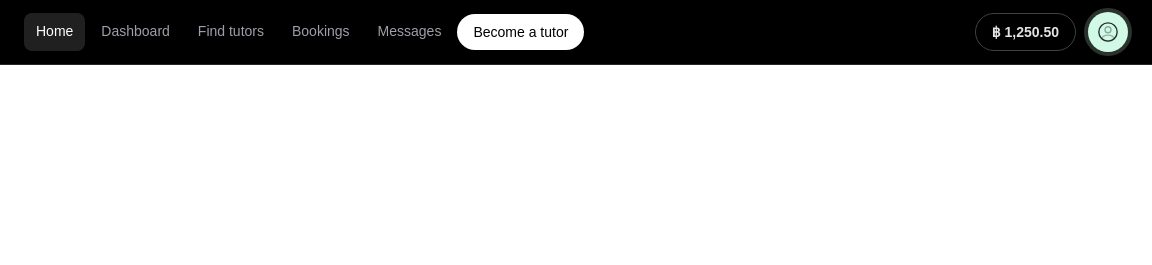
Navbar › shows the balance and account menu after login
The width and height of the screenshot is (1152, 265).
Expected: the link named "Wallet balance" reads "฿ 1,250.50", [975, 13, 1076, 51]
Click the button named "Open account menu" at point(1108, 32), box [1088, 12, 1128, 52]
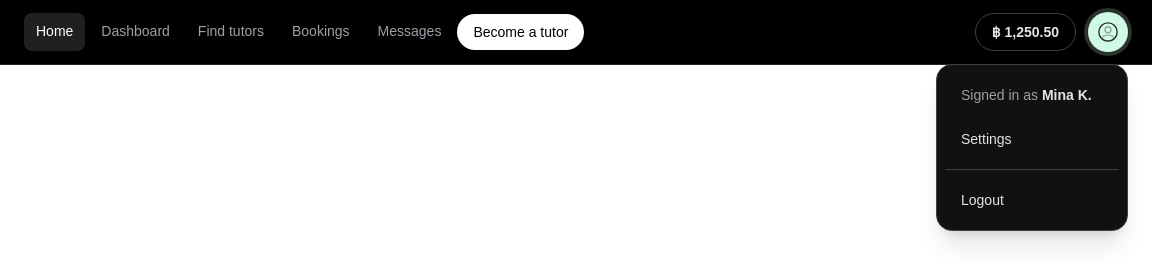
Expected: the text "Mina K." is shown, [1042, 87, 1092, 103]
Expected: the link "Settings" is shown, [961, 131, 1012, 147]
Expected: the button "Logout" is shown, [945, 178, 1119, 222]
